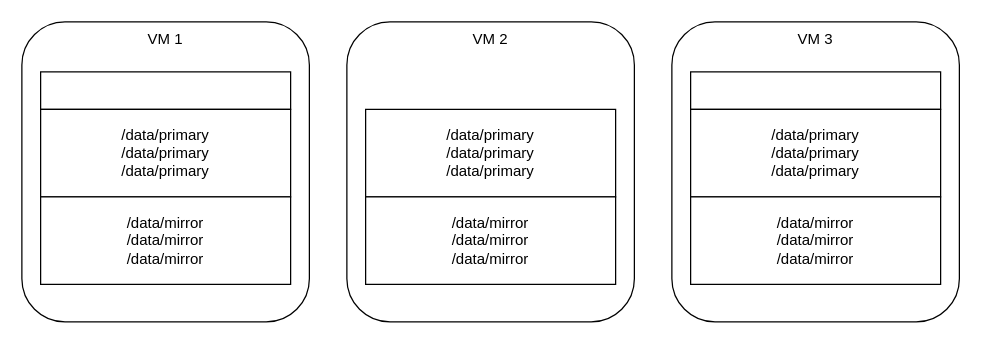
Some shapes in this 981 by 344 pixel diagram are drawn without their labels. Here are the shapes that lost their labels. From the top down, the centre of each, then its label:
At pixel 165 90: "/data/coordinator".
At pixel 815 90: "/data/standby_coordinator".
